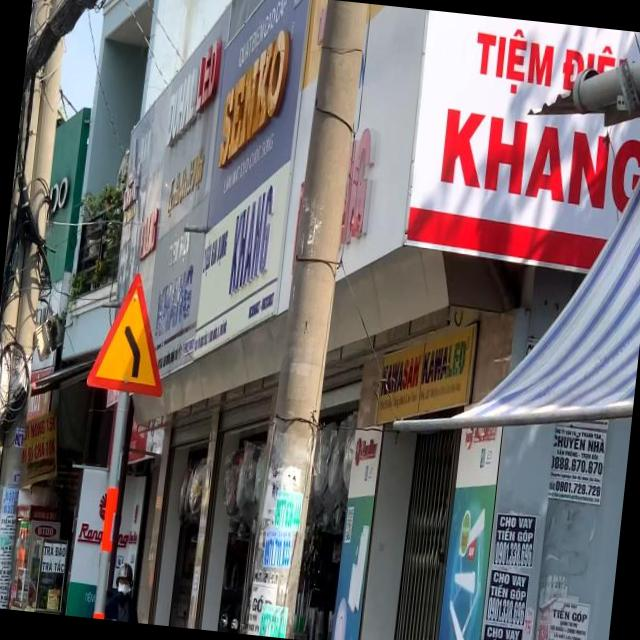W-201a: (84, 266, 174, 395)
